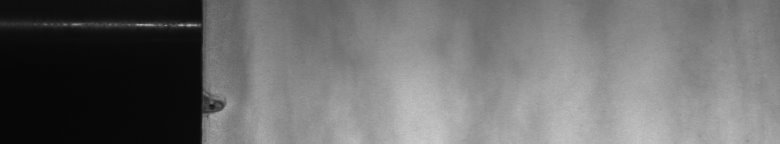hb: (212, 88, 234, 120)
